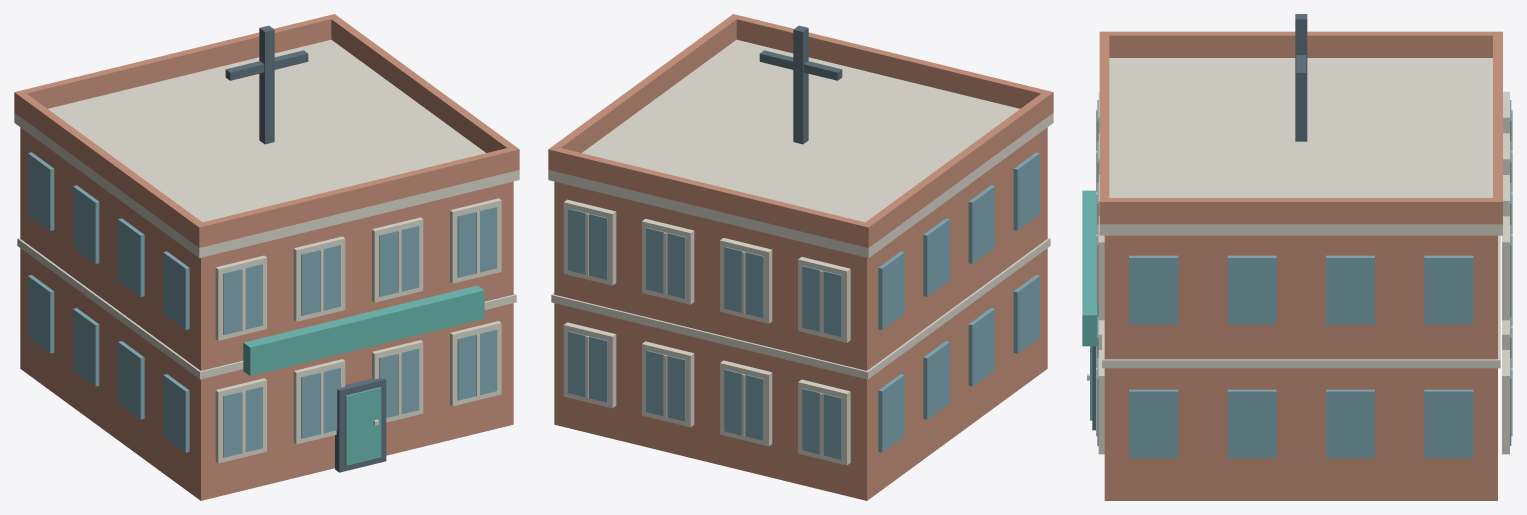
3 renders of one model, left to right at view 1: azimuth 30°, elevation 25°; view 2: azimuth 150°, elevation 25°; view 3: azimuth 270°, elevation 25°, orthographic. The views are drawn at different scales.
Visible parts, largest first — view 1: police-station-brick, police-station-concrete, police-station-glass, police-station-accent, police-station-dark; view 2: police-station-brick, police-station-concrete, police-station-glass, police-station-dark; view 3: police-station-brick, police-station-concrete, police-station-glass, police-station-accent, police-station-dark.
Boxes of the visible parts, x1=… form: police-station-brick: x1=14, y1=14, x2=519, y2=500; police-station-concrete: x1=14, y1=39, x2=519, y2=463; police-station-glass: x1=28, y1=152, x2=497, y2=457; police-station-accent: x1=243, y1=285, x2=484, y2=465; police-station-dark: x1=225, y1=25, x2=386, y2=472; police-station-brick: x1=548, y1=14, x2=1053, y2=500; police-station-concrete: x1=548, y1=39, x2=1053, y2=465; police-station-glass: x1=568, y1=152, x2=1039, y2=459; police-station-dark: x1=759, y1=25, x2=842, y2=144; police-station-brick: x1=1099, y1=31, x2=1502, y2=500; police-station-concrete: x1=1087, y1=58, x2=1512, y2=454; police-station-glass: x1=1097, y1=100, x2=1511, y2=458; police-station-accent: x1=1082, y1=190, x2=1097, y2=420; police-station-dark: x1=1092, y1=14, x2=1307, y2=430.
Size of the model in its own units: 8.2 by 9 by 8.75.
